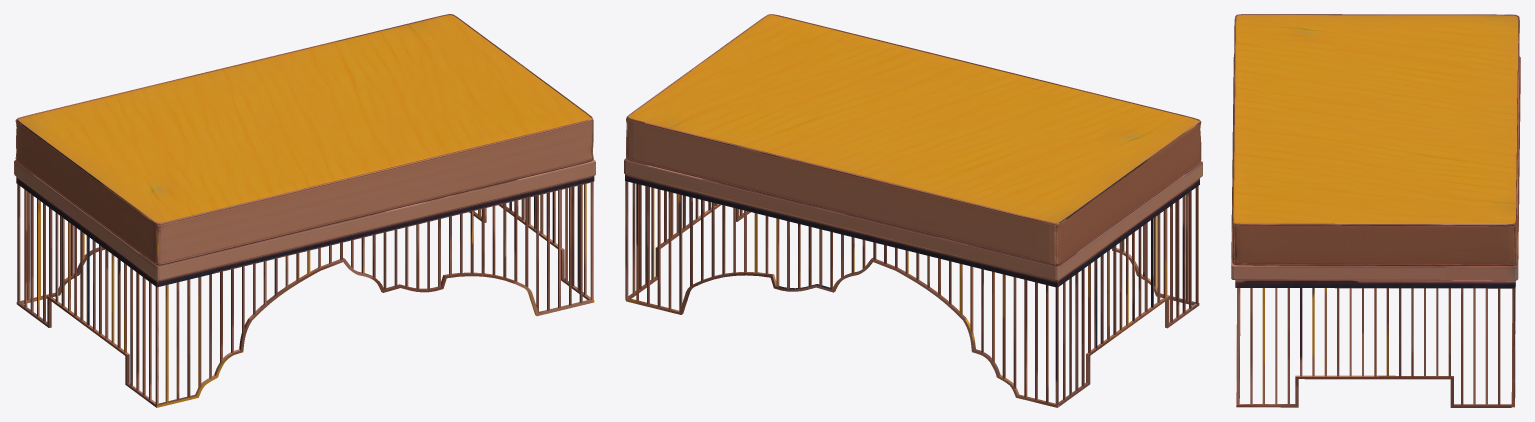
The model's file is edited_mesh.glb.
The picture shows the model from 3 angles, left to right: view 1: azimuth 30°, elevation 25°; view 2: azimuth 150°, elevation 25°; view 3: azimuth 270°, elevation 25°; orthographic projection.
Visible parts, largest first — view 1: solid_001_wire; view 2: solid_001_wire; view 3: solid_001_wire.
Part boxes in pixels (<box>): solid_001_wire: <box>14,14,595,407</box>; solid_001_wire: <box>624,14,1202,407</box>; solid_001_wire: <box>1231,14,1520,407</box>.
Bounding box in the file's own units: 2 × 0.8071 × 1.16.
1 material, 1 textured.
